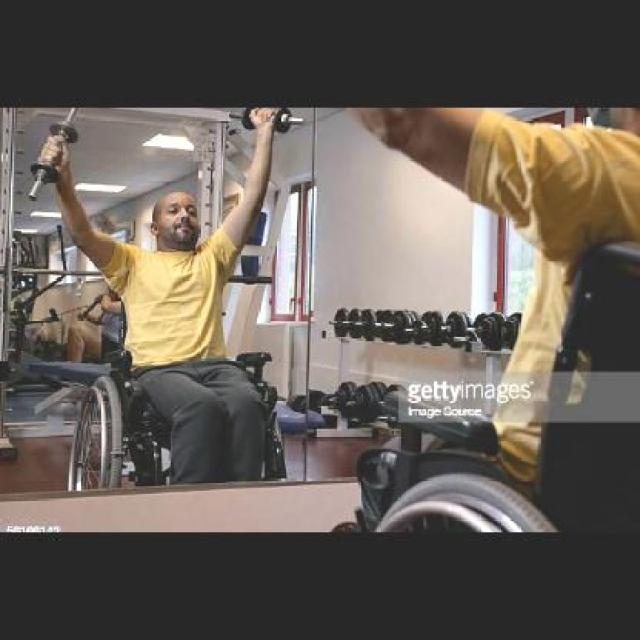wheelchairs: (354, 231, 640, 552), (66, 270, 304, 482)
